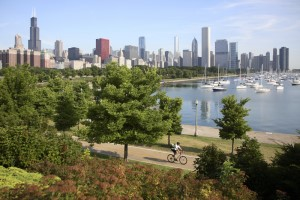willis: (27, 6, 42, 52)
